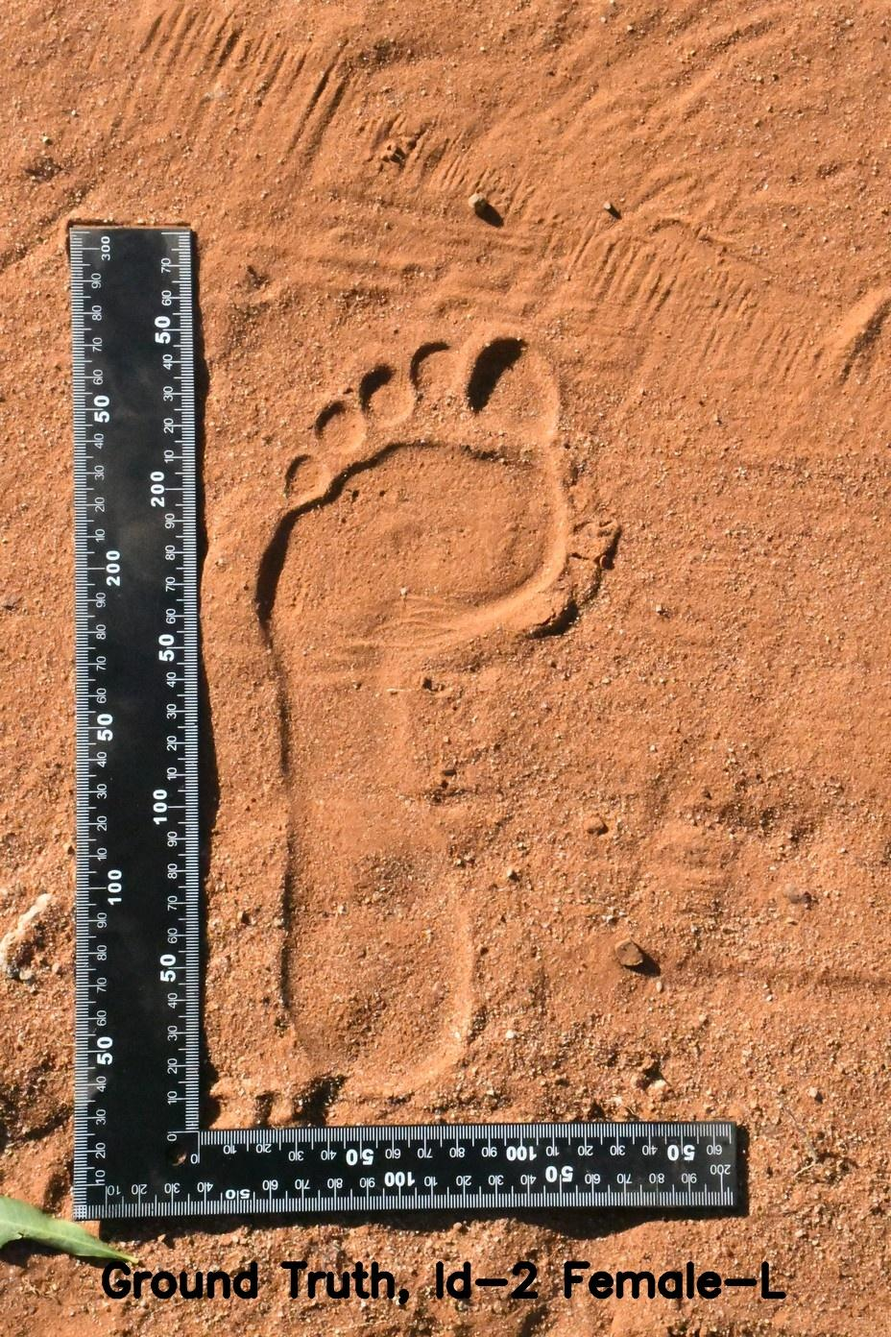human_foot_print: (225, 276, 638, 1094)
